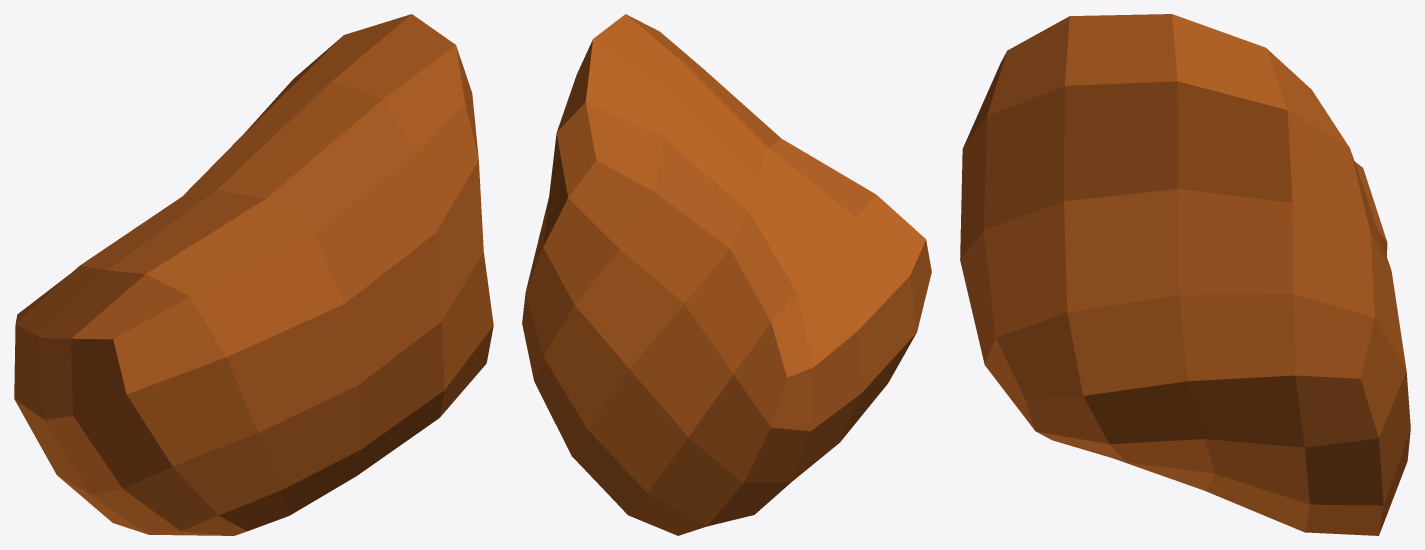
Rendered from Earth Rock.fbx.
3 renders of one model, left to right at view 1: azimuth 30°, elevation 25°; view 2: azimuth 150°, elevation 25°; view 3: azimuth 270°, elevation 25°, orthographic. The views are drawn at different scales.
Parts seen in each view (by area): view 1: Cube; view 2: Cube; view 3: Cube.
Boxes of the visible parts, x1,y1,x2,y2 form: Cube: (14, 14, 493, 535); Cube: (522, 14, 931, 535); Cube: (960, 14, 1410, 535).
Bounding box in the file's own units: 236 × 284 × 187.
